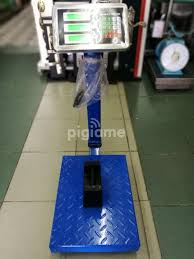Industrial Scale: (49, 1, 141, 253)
